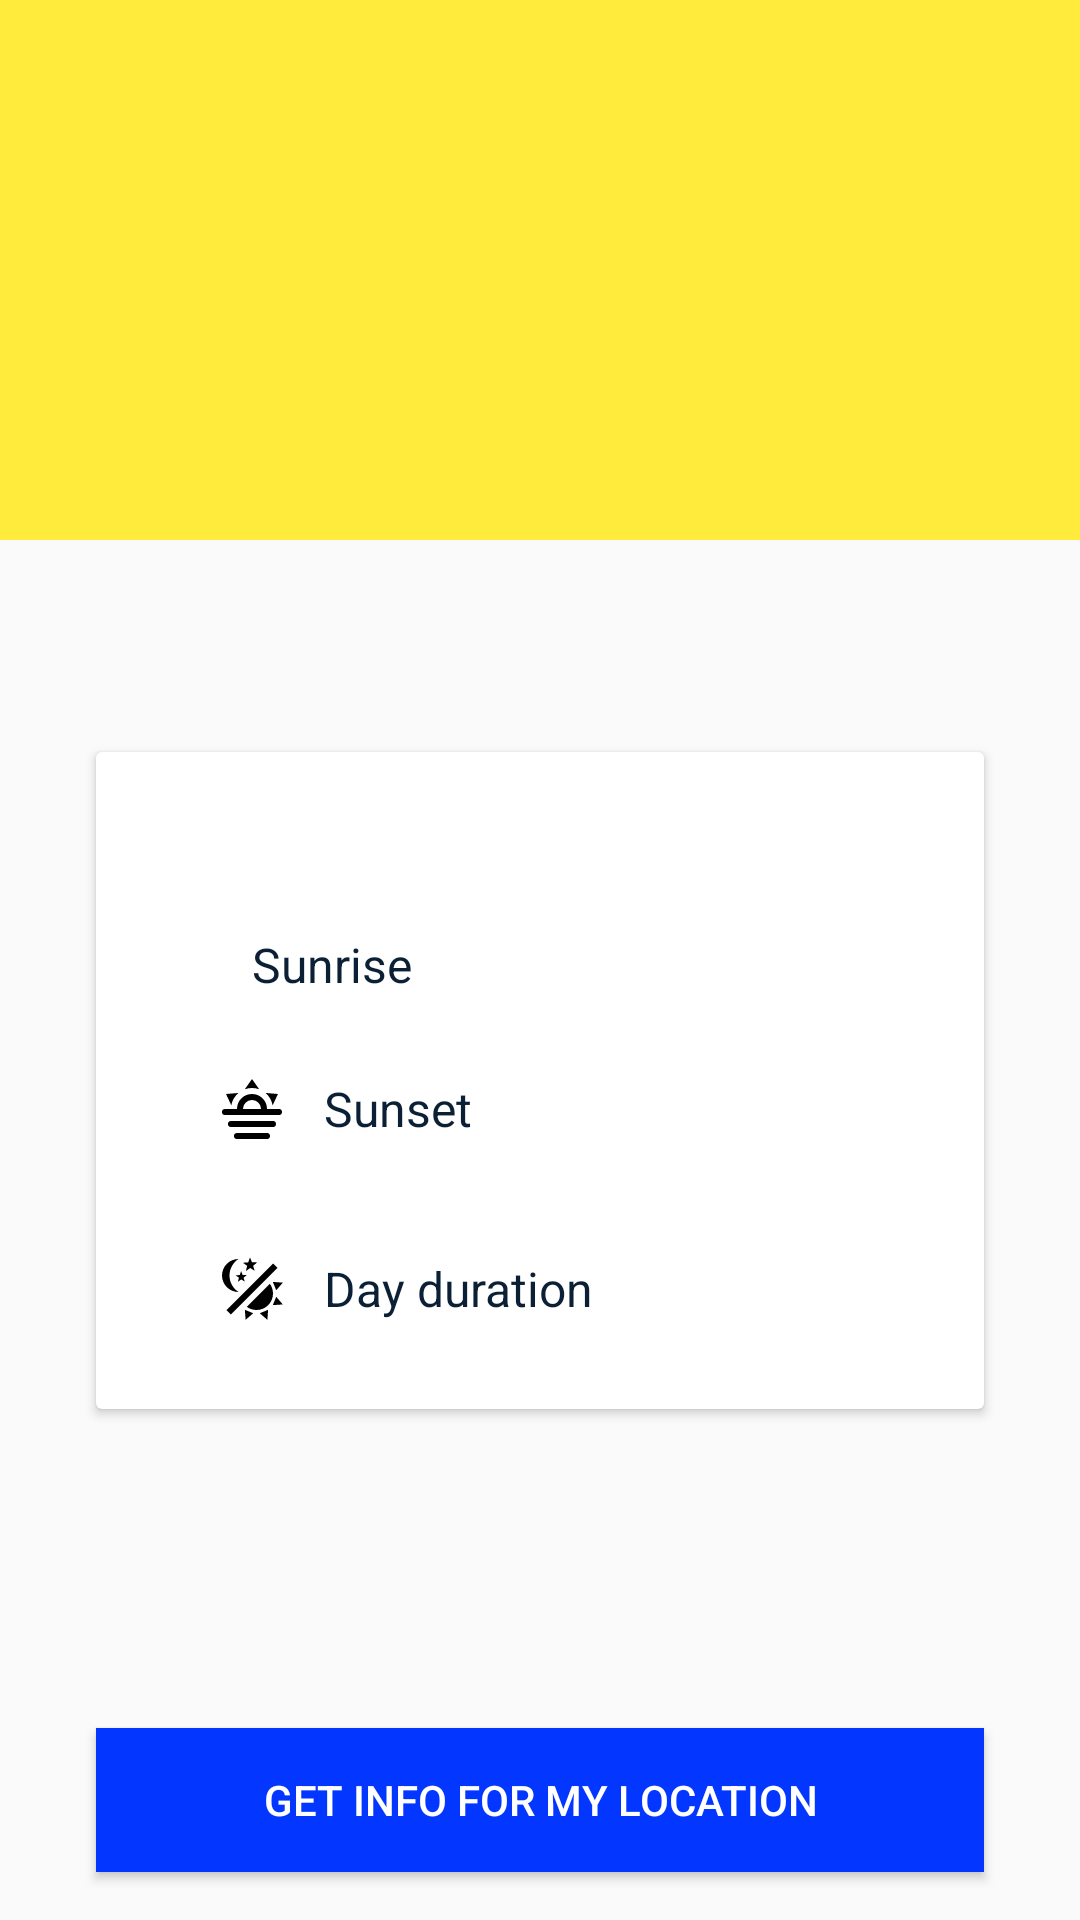

Icons on this 1080 × 1920 Android screen, each with its box as [x1, y1, x2, y2]:
day night: [222, 1258, 283, 1320]
